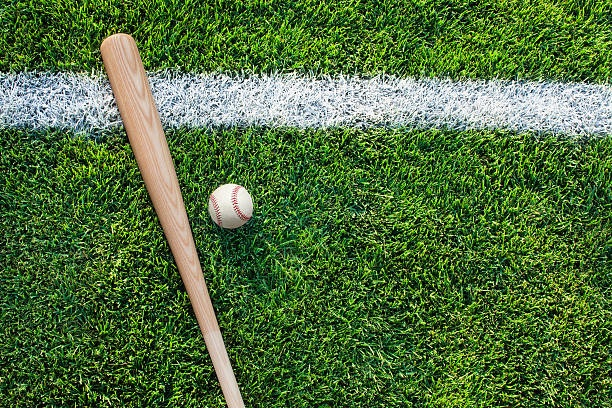bita: (102, 34, 247, 407)
